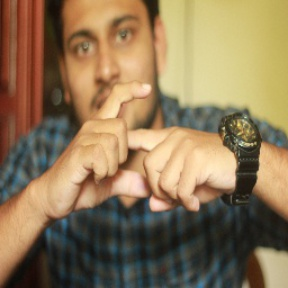E: (84, 78, 178, 211)
